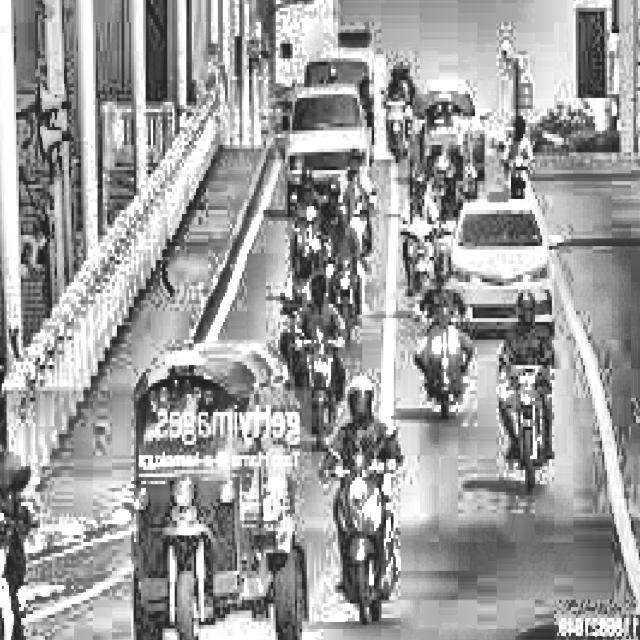Helmet: (338, 364, 380, 436)
